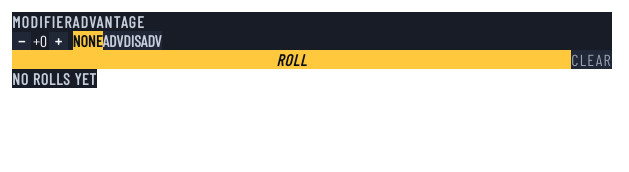
Test case: DiceRoller › rolls with a zero modifier and no advantage by default
The image size is (629, 172).
What coordinates should you click on to do the following:
click the button "Roll"
I would click on:
 (292, 60)
Its box is 12,50 -> 571,69.
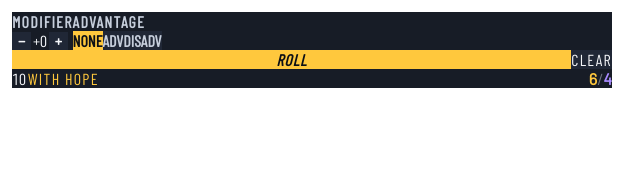
Now the text with class "dice-roller__log-total" reads "10", box 12,69 -> 26,88
